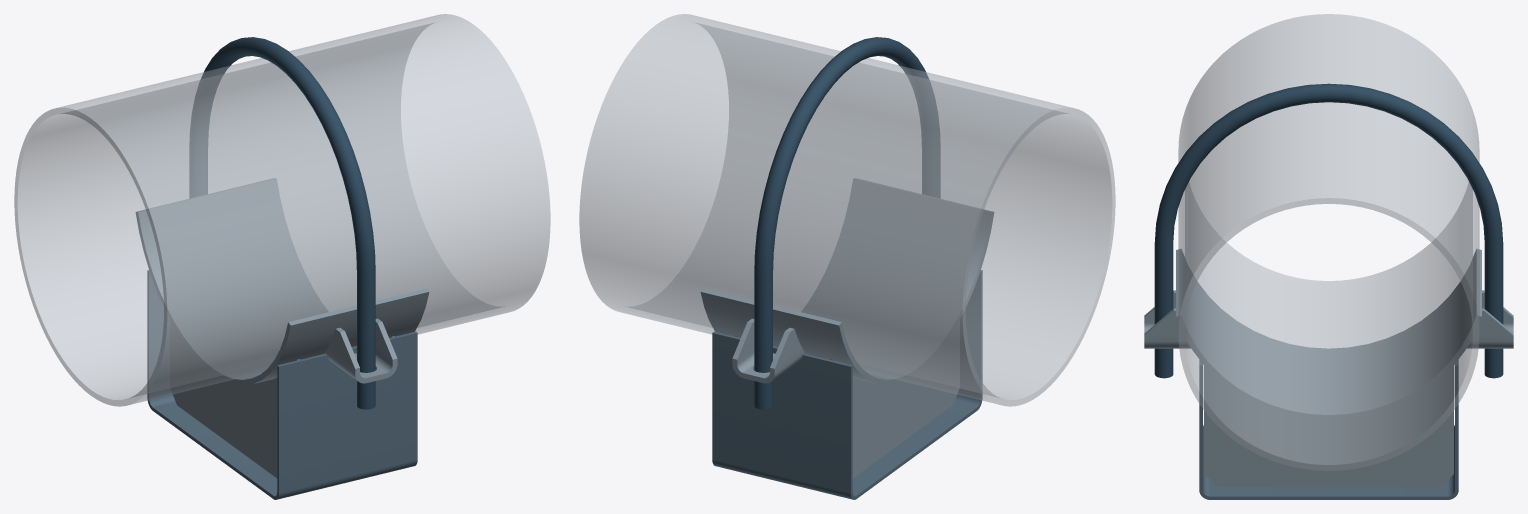
The model's file is TS-626.00.000-018-opora-dn325-H100-L170.glb.
The picture shows the model from 3 angles, left to right: view 1: azimuth 30°, elevation 25°; view 2: azimuth 150°, elevation 25°; view 3: azimuth 270°, elevation 25°; orthographic projection.
Parts seen in each view (by area): view 1: truba, podushka_3, skoba_0, homut_0, rebro4_1, ushko_5; view 2: truba, podushka_3, skoba_0, homut_0, rebro4_1, ushko_4; view 3: truba, podushka_3, rebro4_2, homut_0, skoba_0, ushko_4, ushko_5.
Boxes of the visible parts, x1,y1,x2,y2 form: truba: (14,14,550,406); podushka_3: (135,178,429,385); skoba_0: (147,270,417,499); homut_0: (189,37,375,409); rebro4_1: (170,321,300,478); ushko_5: (324,318,397,383); truba: (579,14,1115,406); podushka_3: (700,178,994,385); skoba_0: (712,270,982,499); homut_0: (754,37,940,409); rebro4_1: (829,321,959,478); ushko_4: (732,318,805,383); truba: (1178,14,1479,470); podushka_3: (1176,249,1481,420); rebro4_2: (1204,366,1453,486); homut_0: (1154,83,1503,378); skoba_0: (1199,360,1458,499); ushko_4: (1467,290,1513,348); ushko_5: (1144,290,1190,348).
Bounding box in the file's own units: 470 × 455 × 399.
